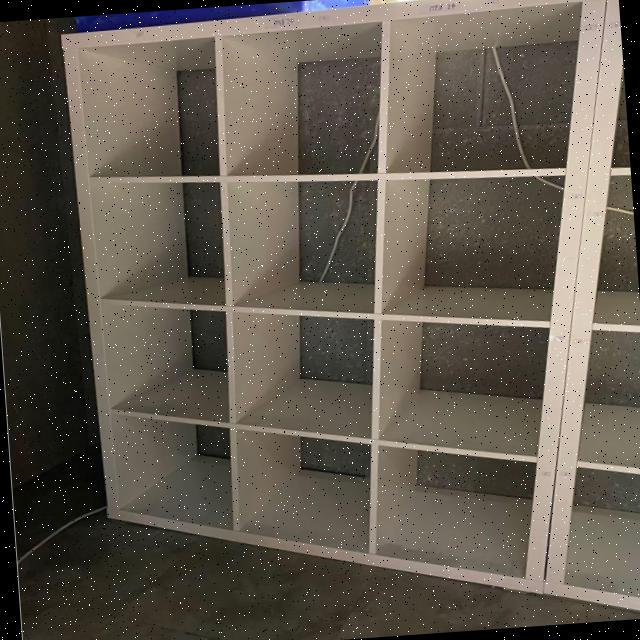Shelf: (49, 0, 640, 640)
